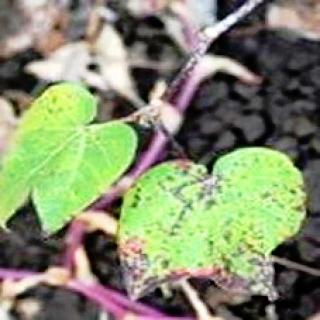leaf spot: (118, 154, 298, 300)
